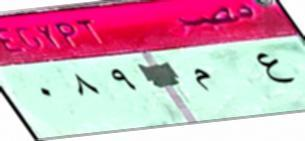0: (34, 75, 57, 109)
8: (72, 70, 100, 106)
9: (107, 66, 137, 97)
ain: (250, 44, 298, 89)
meem: (186, 64, 216, 100)
